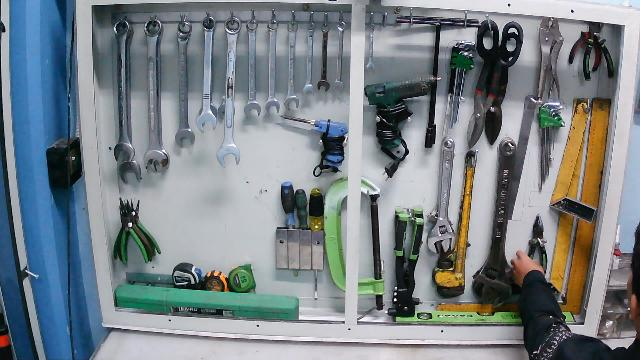tang_kombinasi: (525, 210, 550, 277)
